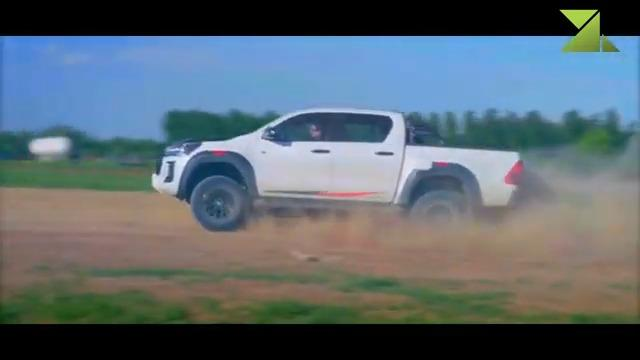MIL_HMMWV: (152, 107, 525, 233)
